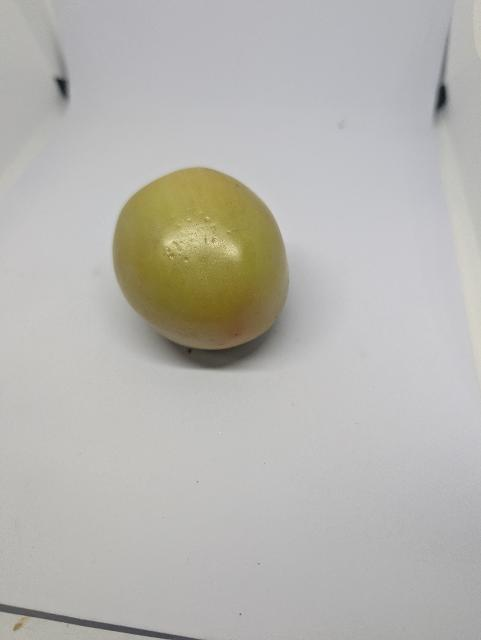breaker: (109, 166, 296, 353)
